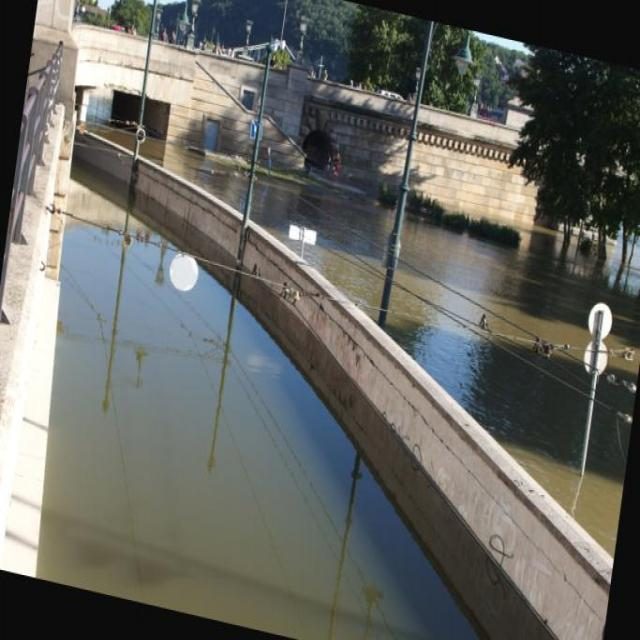flood: (13, 110, 639, 639)
